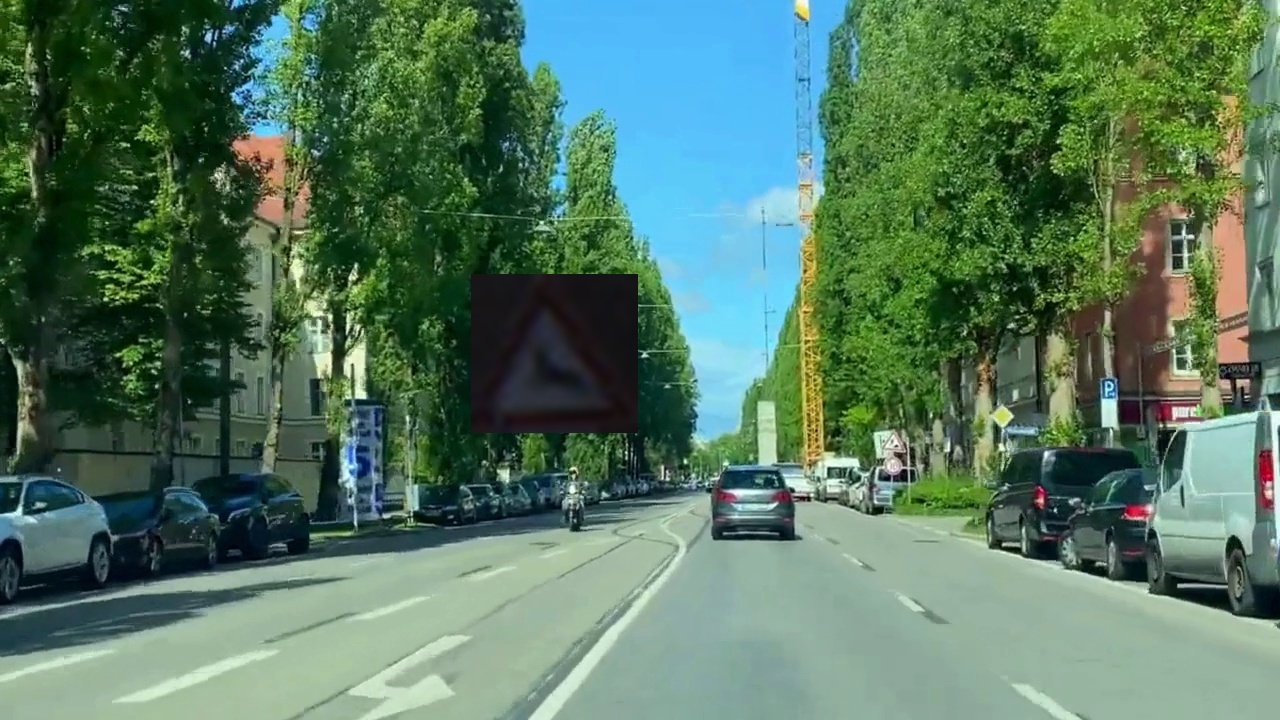Wild animals: (471, 274, 638, 433)
